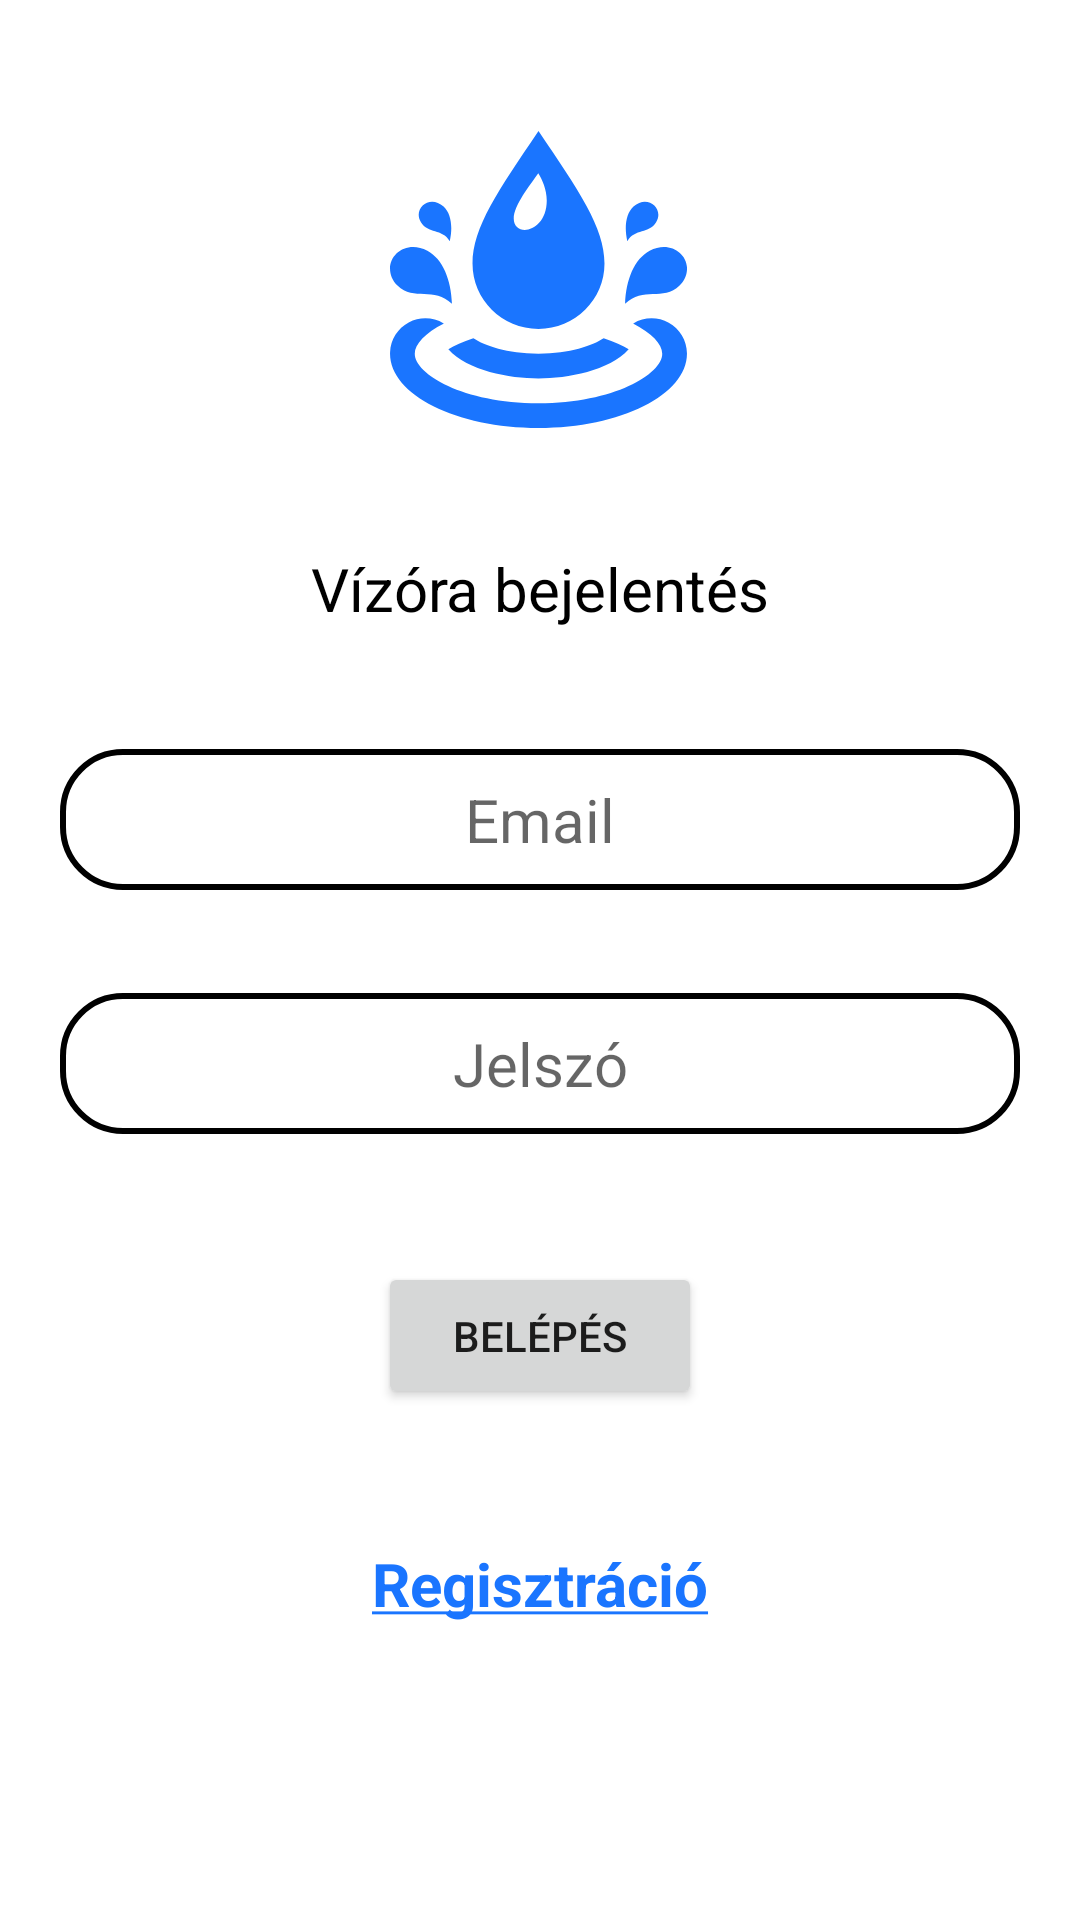

Icon click points for this 1080*1920 phone screenshot, format point (x, y):
water drop: point (538, 279)
